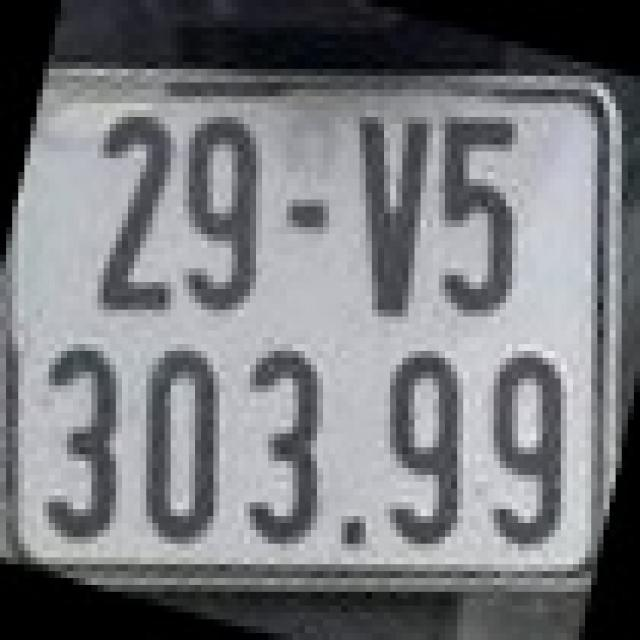0: (140, 344, 220, 544)
2: (91, 110, 177, 310)
3: (244, 344, 323, 544), (43, 344, 122, 537)
5: (439, 110, 518, 316)
9: (481, 344, 567, 544), (183, 110, 262, 310), (384, 344, 463, 544)
V: (347, 117, 433, 317)
